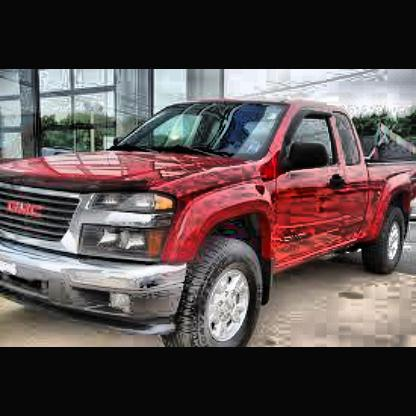GMC Canyon Extended Cab 2012: (2, 99, 416, 347)
